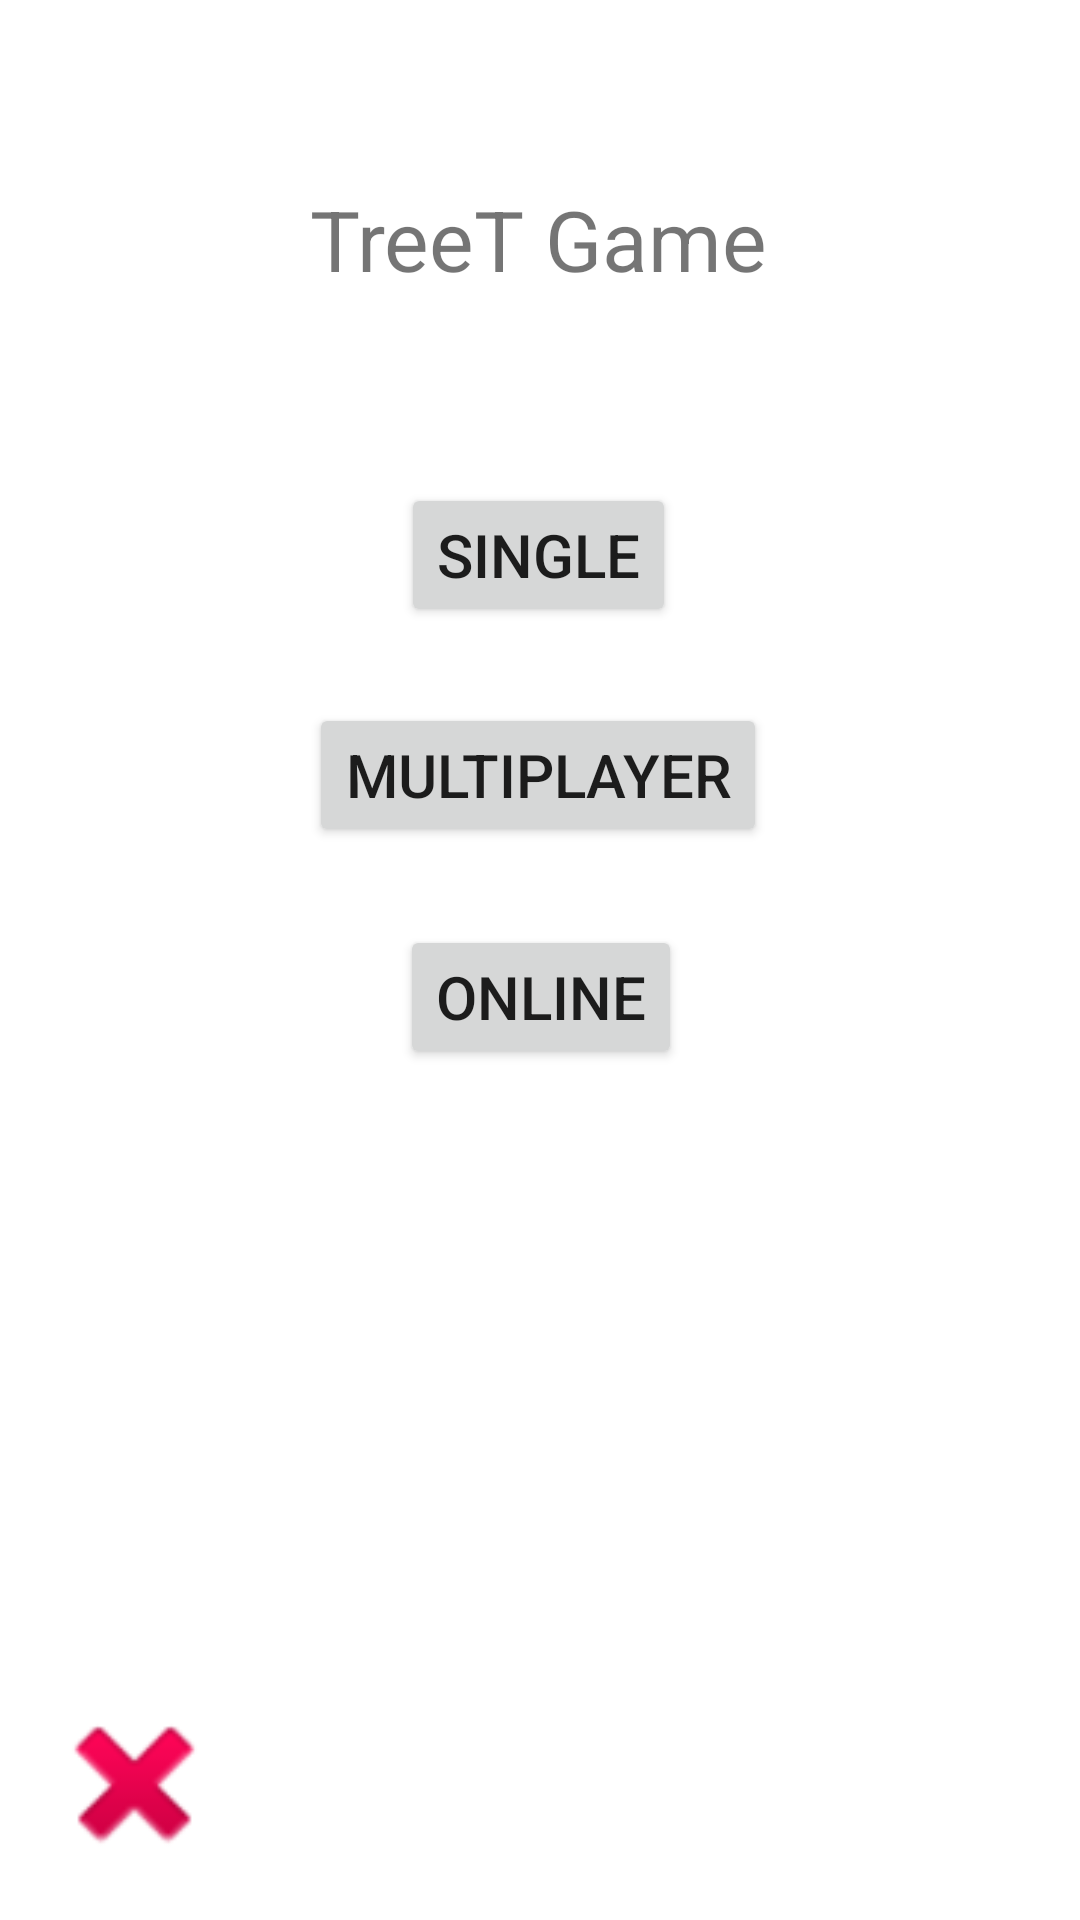

Named icons in this screenshot (1080px x 1920px) and their bounding boxes, box(x1, y1, x2, y2):
delete: box(74, 1726, 195, 1843)
